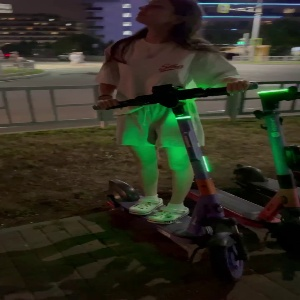human on a scooter: (95, 1, 259, 285)
